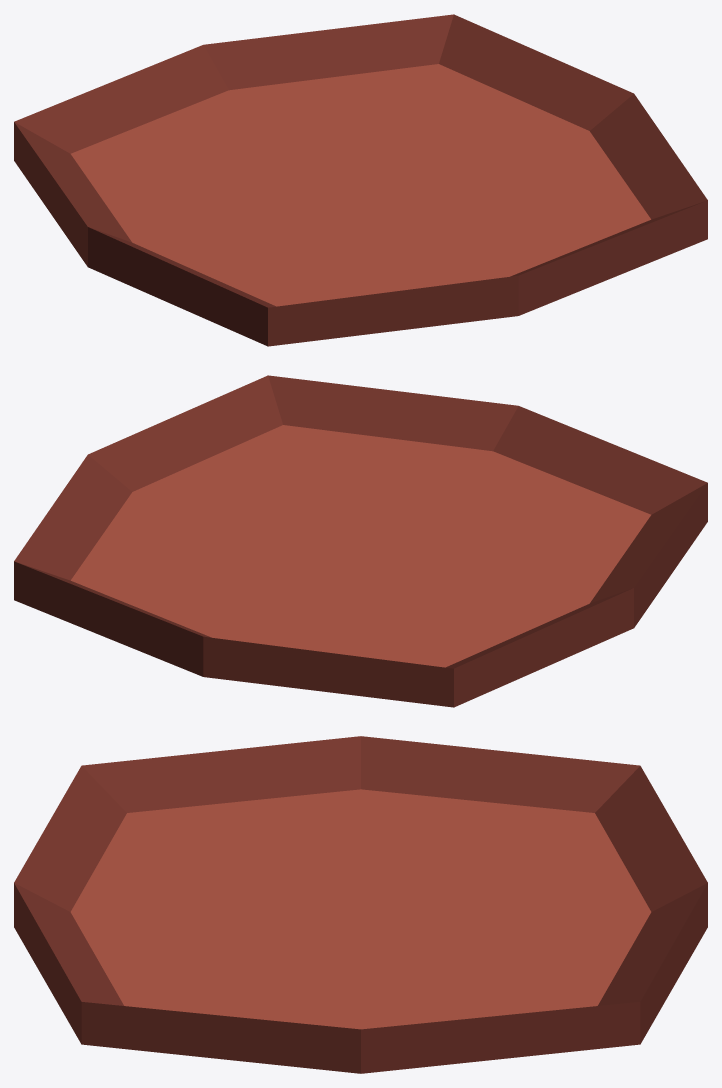
File: Plate_3_Red.fbx
3 views of the same model, one above another, from view 1: azimuth 30°, elevation 25°; view 2: azimuth 150°, elevation 25°; view 3: azimuth 270°, elevation 25° (orthographic). The views are drawn at different scales.
Visible parts, largest first — view 1: Plate_3_Red_Part_2, Plate_3_Red_Part_1; view 2: Plate_3_Red_Part_2, Plate_3_Red_Part_1; view 3: Plate_3_Red_Part_2, Plate_3_Red_Part_1.
Part boxes in pixels (x1,y1,x2,y2): Plate_3_Red_Part_2: [71, 64, 650, 306]; Plate_3_Red_Part_1: [14, 14, 707, 346]; Plate_3_Red_Part_2: [71, 425, 650, 667]; Plate_3_Red_Part_1: [14, 375, 707, 707]; Plate_3_Red_Part_2: [70, 789, 651, 1029]; Plate_3_Red_Part_1: [14, 736, 707, 1073].
Bounding box in the file's own units: 25 × 1.77 × 25.
